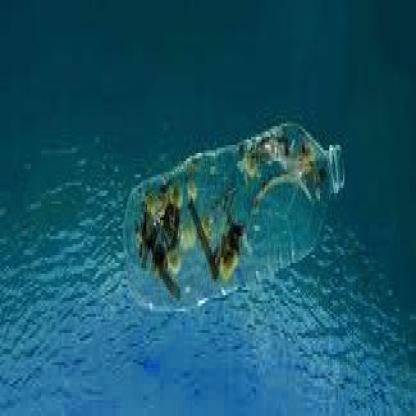pbottle: (115, 118, 350, 317)
